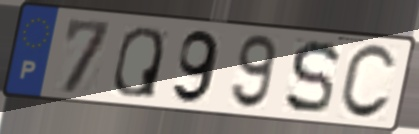7: (62, 14, 114, 96)
9: (170, 28, 224, 106), (229, 32, 281, 113)
C: (336, 42, 399, 123)
Q: (110, 24, 167, 101)
S: (282, 38, 343, 117)
